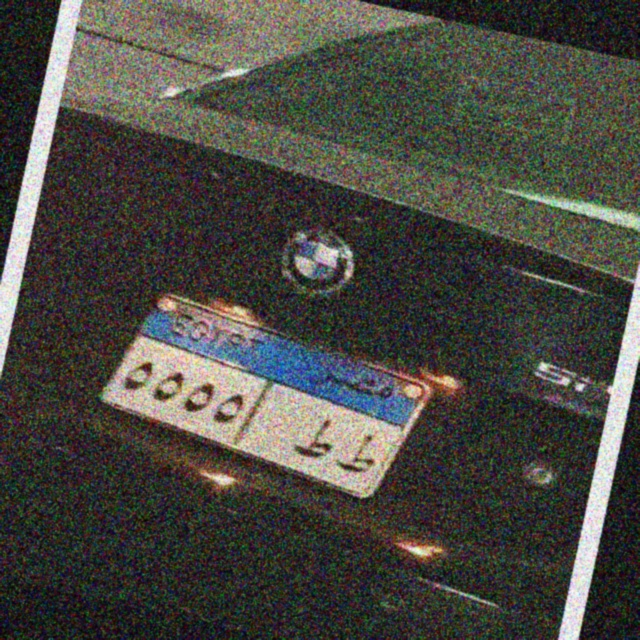License Plate: (87, 280, 465, 515)
